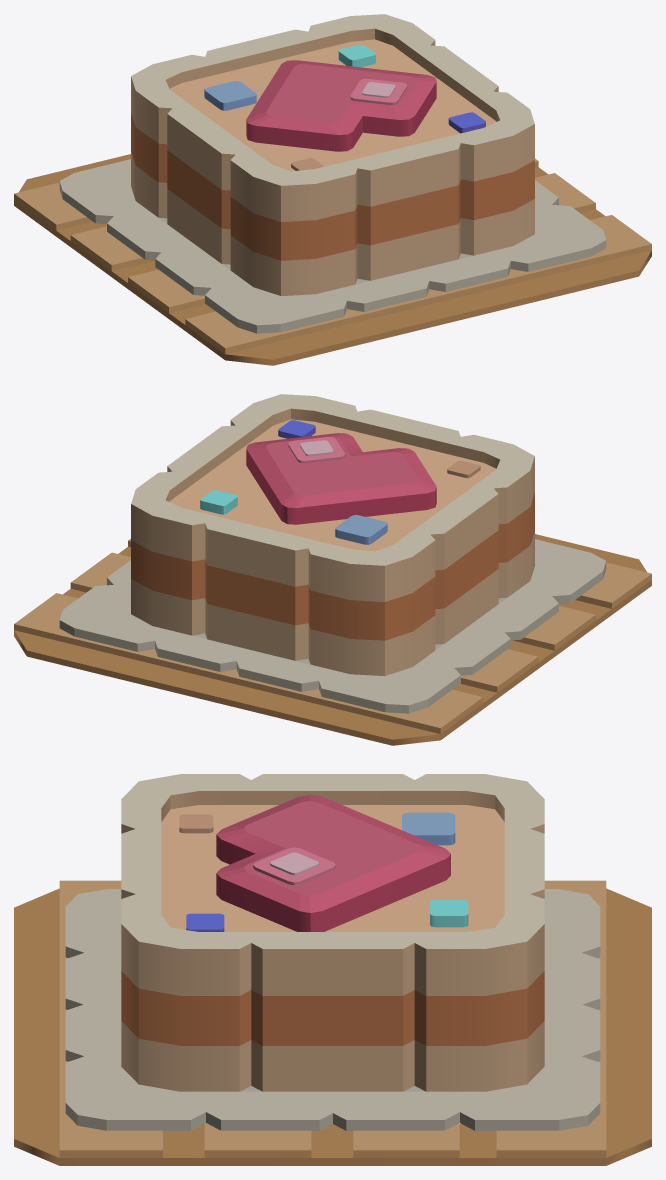
Rendered from BC_cookrecipe_S_09.fbx.
3 views of the same model, one above another, from view 1: azimuth 30°, elevation 25°; view 2: azimuth 150°, elevation 25°; view 3: azimuth 270°, elevation 25° (orthographic). The views are drawn at different scales.
Parts seen in each view (by area): view 1: BC_cookrecipe_S_9 1, base; view 2: BC_cookrecipe_S_9 1, base; view 3: BC_cookrecipe_S_9 1, base.
Boxes of the visible parts, x1,y1,x2,y2 form: BC_cookrecipe_S_9 1: [59, 14, 606, 333]; base: [14, 154, 651, 365]; BC_cookrecipe_S_9 1: [59, 394, 606, 713]; base: [14, 534, 651, 745]; BC_cookrecipe_S_9 1: [65, 774, 600, 1130]; base: [14, 880, 651, 1165].
Size of the model in its own units: 3.5 by 1.14 by 3.5.
